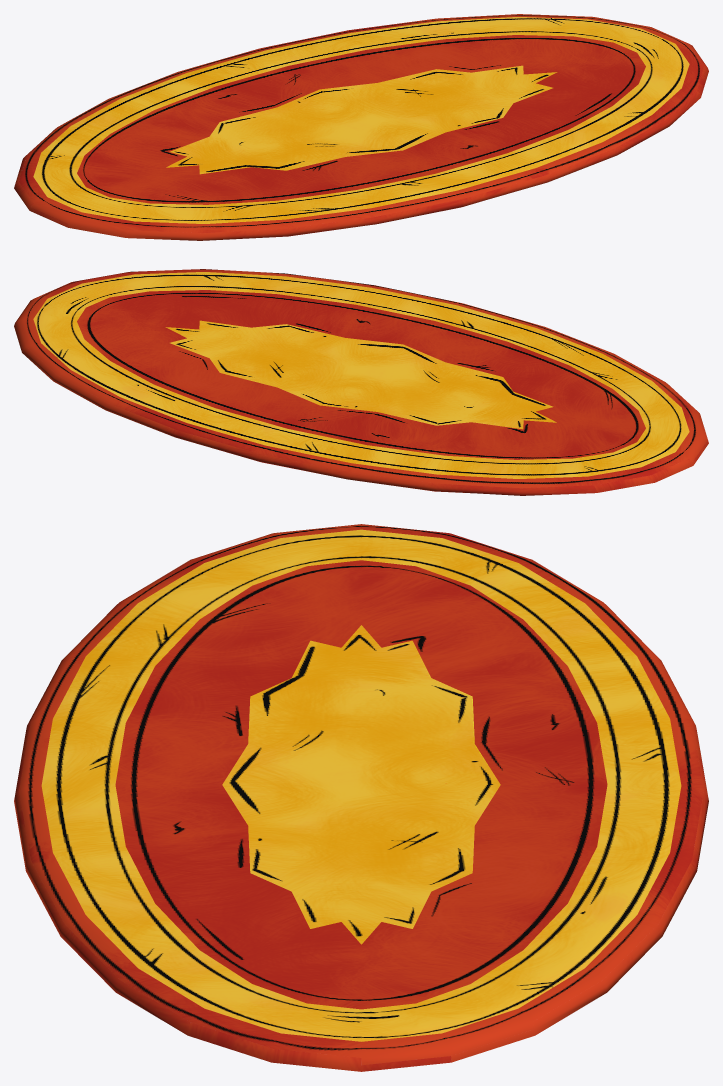
File: Carpet_A.glb
3 renders of one model, top to bottom at view 1: azimuth 30°, elevation 25°; view 2: azimuth 150°, elevation 25°; view 3: azimuth 270°, elevation 25°, orthographic. The views are drawn at different scales.
Visible parts, largest first — view 1: Carpet A; view 2: Carpet A; view 3: Carpet A.
Part boxes in pixels (box(x1,y1,x2,y2)): Carpet A: box(14, 14, 708, 240); Carpet A: box(14, 269, 708, 495); Carpet A: box(14, 524, 708, 1071).
Size of the model in its own units: 11.1 by 0.2932 by 6.03.
2 materials, 2 textured.
